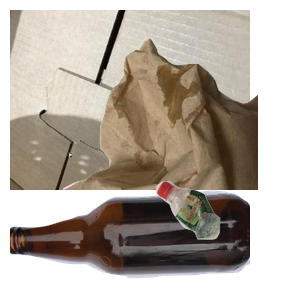cardboard: (10, 10, 250, 190)
glass: (10, 188, 250, 300)
plastic: (153, 178, 300, 300)
trash: (60, 35, 300, 215)
